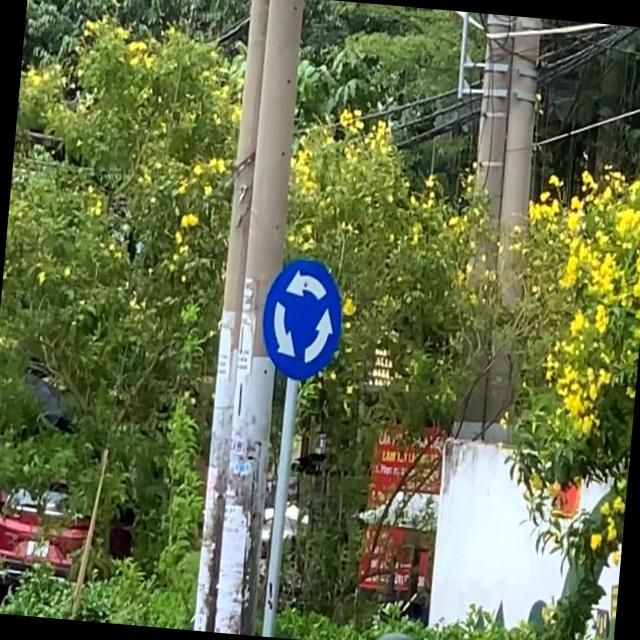R-303: (259, 254, 345, 382)
